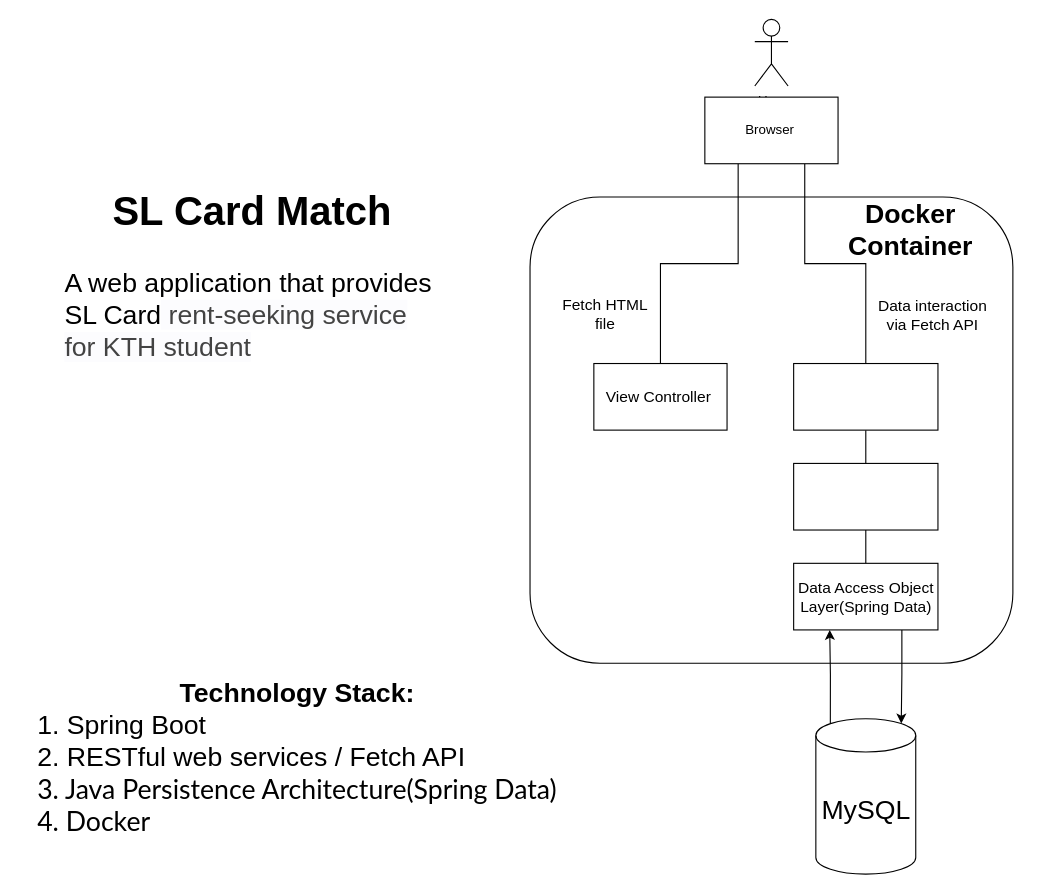
Some shapes in this 1046 by 894 pixel diagram are drawn without their labels. The shapes that lost their labels are listed below. From the top down, each one's centre as x and y in pixels, then its label:
At [865,396]: "RESTful API Controller Layer".
At [865,496]: "Service Layer".
